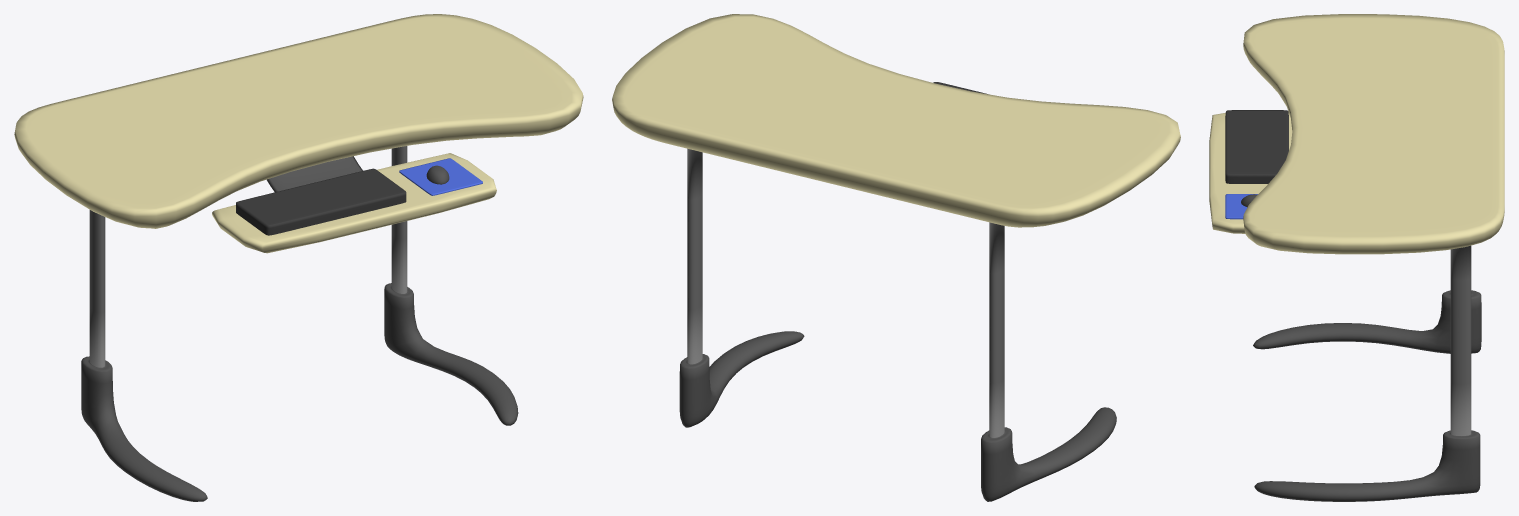
File: OfficeDesk.fbx
3 renders of one model, left to right at view 1: azimuth 30°, elevation 25°; view 2: azimuth 150°, elevation 25°; view 3: azimuth 270°, elevation 25°, orthographic. The views are drawn at different scales.
Visible parts, largest first — view 1: Desk, Drawer, Keyboard, Mousepad; view 2: Desk; view 3: Desk, Keyboard, Drawer, Mousepad.
Boxes of the visible parts, x1,y1,x2,y2 form: Desk: (14, 14, 583, 501); Drawer: (212, 153, 496, 253); Keyboard: (236, 168, 406, 235); Mousepad: (399, 158, 482, 195); Desk: (612, 14, 1180, 501); Desk: (1243, 14, 1504, 501); Keyboard: (1225, 110, 1288, 183); Drawer: (1209, 113, 1292, 233); Mousepad: (1225, 194, 1257, 219).
Size of the model in its own units: 407 by 245 by 222.
